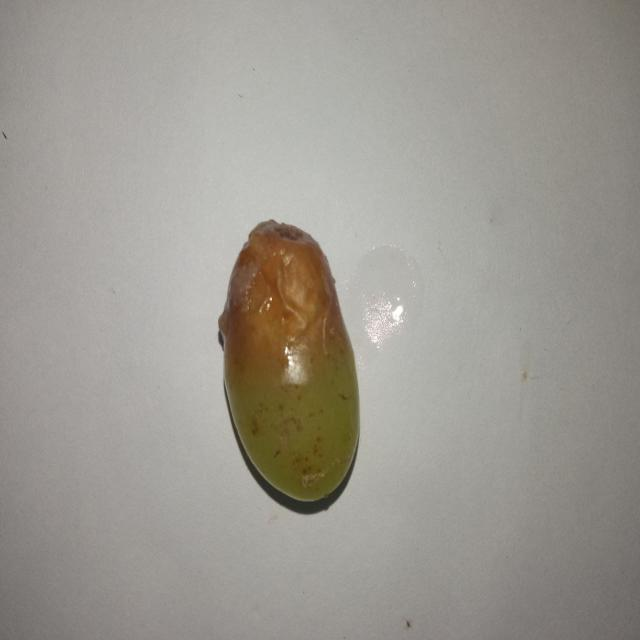rotten_grape: (219, 221, 361, 502)
